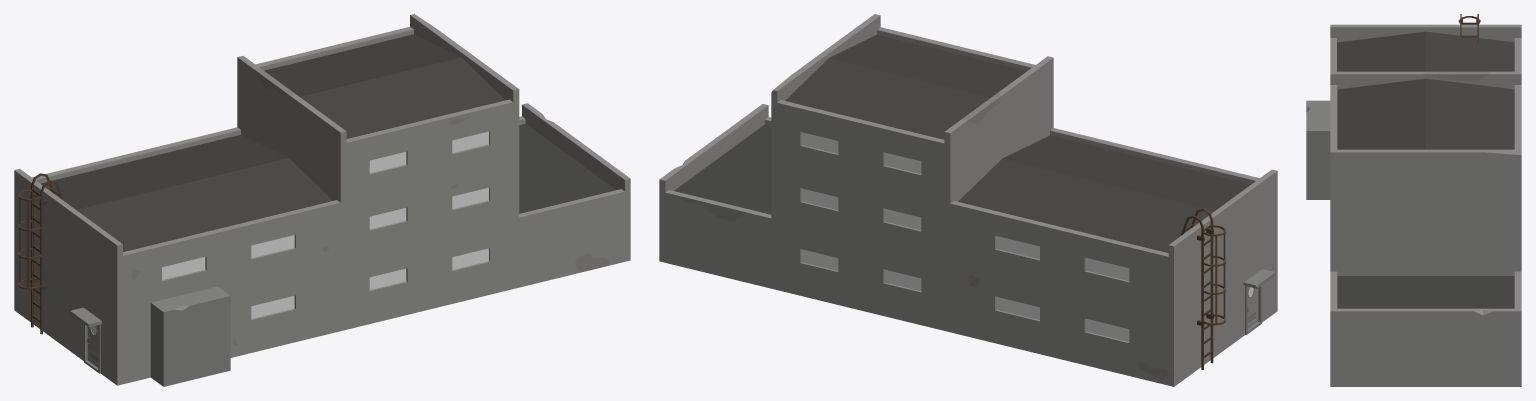
The model's file is SM_Bldg_City_Industrial_06.fbx.
The picture shows the model from 3 angles, left to right: view 1: azimuth 30°, elevation 25°; view 2: azimuth 150°, elevation 25°; view 3: azimuth 270°, elevation 25°; orthographic projection. The views are drawn at different scales.
Visible parts, largest first — view 1: SM_Bldg_City_Industrial_06; view 2: SM_Bldg_City_Industrial_06; view 3: SM_Bldg_City_Industrial_06.
Part boxes in pixels (x1=…): SM_Bldg_City_Industrial_06: x1=14, y1=14, x2=630, y2=386; SM_Bldg_City_Industrial_06: x1=659, y1=14, x2=1277, y2=386; SM_Bldg_City_Industrial_06: x1=1306, y1=14, x2=1521, y2=386.
Size of the model in its own units: 2400 by 850 by 900.
